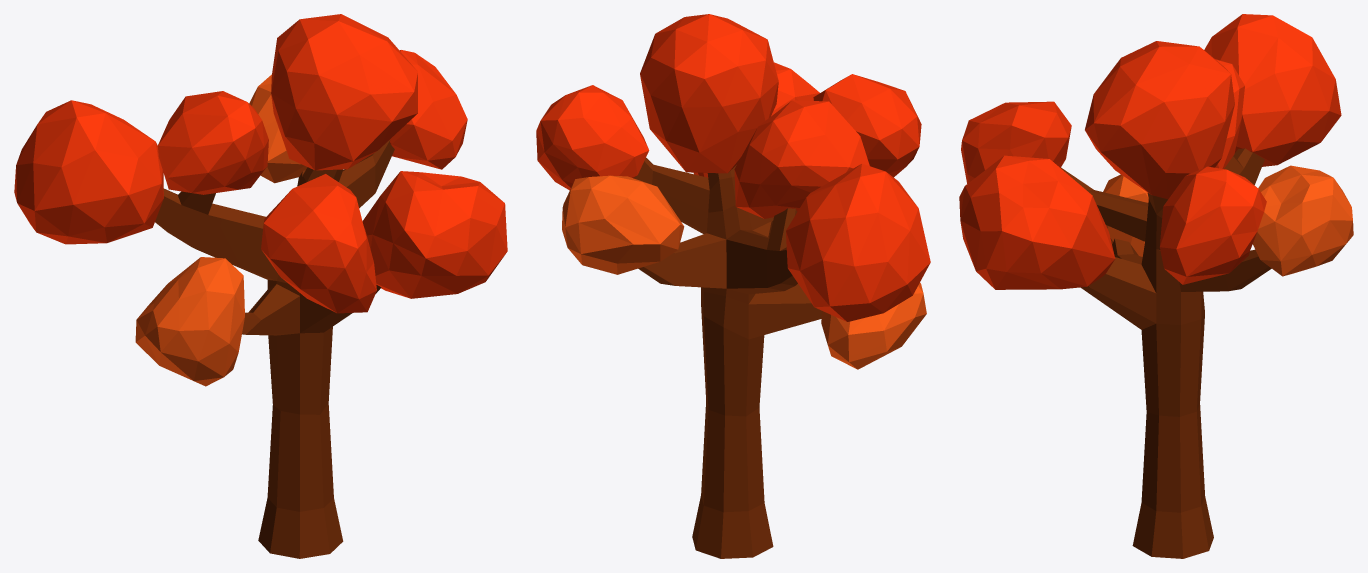
Rendered from LowPolyTree.obj.
3 renders of one model, left to right at view 1: azimuth 30°, elevation 25°; view 2: azimuth 150°, elevation 25°; view 3: azimuth 270°, elevation 25°, orthographic.
Visible parts, largest first — view 1: Arbre_Normal_Cylinder.002; view 2: Arbre_Normal_Cylinder.002; view 3: Arbre_Normal_Cylinder.002.
Part boxes in pixels (bbox=[...]): Arbre_Normal_Cylinder.002: bbox=[14, 14, 507, 558]; Arbre_Normal_Cylinder.002: bbox=[536, 14, 930, 558]; Arbre_Normal_Cylinder.002: bbox=[959, 14, 1353, 558].
Bounding box in the file's own units: 3.58 × 4.41 × 3.09.
